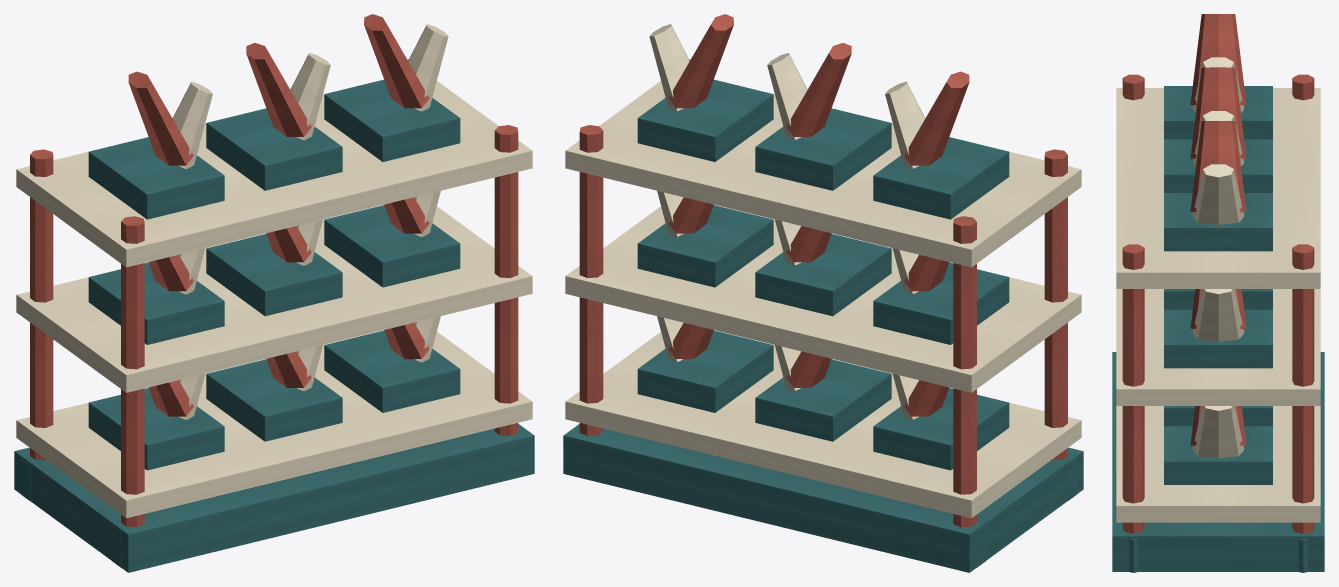
File: atlas100-s037-a02.lod1.glb
3 views of the same model, side by side, from view 1: azimuth 30°, elevation 25°; view 2: azimuth 150°, elevation 25°; view 3: azimuth 270°, elevation 25° (orthographic). The views are drawn at different scales.
Visible parts, largest first — view 1: atlas100-s037-a02:part-000, atlas100-s037-a02:part-031, atlas100-s037-a02:part-021, atlas100-s037-a02:part-011, atlas100-s037-a02:part-032, atlas100-s037-a02:part-028, atlas100-s037-a02:part-025, atlas100-s037-a02:part-018, atlas100-s037-a02:part-035, atlas100-s037-a02:part-015, atlas100-s037-a02:part-038, atlas100-s037-a02:part-009 (+16 smaller); view 2: atlas100-s037-a02:part-000, atlas100-s037-a02:part-031, atlas100-s037-a02:part-021, atlas100-s037-a02:part-011, atlas100-s037-a02:part-032, atlas100-s037-a02:part-028, atlas100-s037-a02:part-025, atlas100-s037-a02:part-018, atlas100-s037-a02:part-035, atlas100-s037-a02:part-015, atlas100-s037-a02:part-038, atlas100-s037-a02:part-007 (+16 smaller); view 3: atlas100-s037-a02:part-031, atlas100-s037-a02:part-011, atlas100-s037-a02:part-021, atlas100-s037-a02:part-000, atlas100-s037-a02:part-007, atlas100-s037-a02:part-009, atlas100-s037-a02:part-028, atlas100-s037-a02:part-038, atlas100-s037-a02:part-018, atlas100-s037-a02:part-035, atlas100-s037-a02:part-032, atlas100-s037-a02:part-040 (+15 smaller).
Boxes of the visible parts, <box> form: atlas100-s037-a02:part-000: <box>14,424,534,572</box>; atlas100-s037-a02:part-031: <box>16,81,532,267</box>; atlas100-s037-a02:part-021: <box>16,206,532,392</box>; atlas100-s037-a02:part-011: <box>16,332,532,518</box>; atlas100-s037-a02:part-032: <box>88,137,224,219</box>; atlas100-s037-a02:part-028: <box>324,205,460,287</box>; atlas100-s037-a02:part-025: <box>206,234,342,316</box>; atlas100-s037-a02:part-018: <box>324,330,460,412</box>; atlas100-s037-a02:part-035: <box>206,108,342,190</box>; atlas100-s037-a02:part-015: <box>206,359,342,441</box>; atlas100-s037-a02:part-038: <box>324,79,460,161</box>; atlas100-s037-a02:part-009: <box>494,125,518,435</box>; atlas100-s037-a02:part-000: <box>563,424,1083,572</box>; atlas100-s037-a02:part-031: <box>565,81,1081,267</box>; atlas100-s037-a02:part-021: <box>565,206,1081,392</box>; atlas100-s037-a02:part-011: <box>565,332,1081,518</box>; atlas100-s037-a02:part-032: <box>873,137,1009,219</box>; atlas100-s037-a02:part-028: <box>637,205,773,287</box>; atlas100-s037-a02:part-025: <box>755,234,891,316</box>; atlas100-s037-a02:part-018: <box>637,330,773,412</box>; atlas100-s037-a02:part-035: <box>755,108,891,190</box>; atlas100-s037-a02:part-015: <box>755,359,891,441</box>; atlas100-s037-a02:part-038: <box>637,79,773,161</box>; atlas100-s037-a02:part-007: <box>579,125,603,435</box>; atlas100-s037-a02:part-031: <box>1116,88,1320,288</box>; atlas100-s037-a02:part-011: <box>1116,406,1320,522</box>; atlas100-s037-a02:part-021: <box>1116,289,1320,405</box>; atlas100-s037-a02:part-000: <box>1112,352,1324,571</box>; atlas100-s037-a02:part-007: <box>1292,244,1314,533</box>; atlas100-s037-a02:part-009: <box>1122,244,1144,533</box>; atlas100-s037-a02:part-028: <box>1164,309,1272,368</box>; atlas100-s037-a02:part-038: <box>1164,193,1272,251</box>; atlas100-s037-a02:part-018: <box>1164,426,1272,484</box>; atlas100-s037-a02:part-035: <box>1164,139,1272,192</box>; atlas100-s037-a02:part-032: <box>1164,86,1272,139</box>; atlas100-s037-a02:part-040: <box>1192,164,1244,224</box>.
Size of the model in its own units: 2.9 by 2.97 by 1.4.
3 materials, 3 textured.
